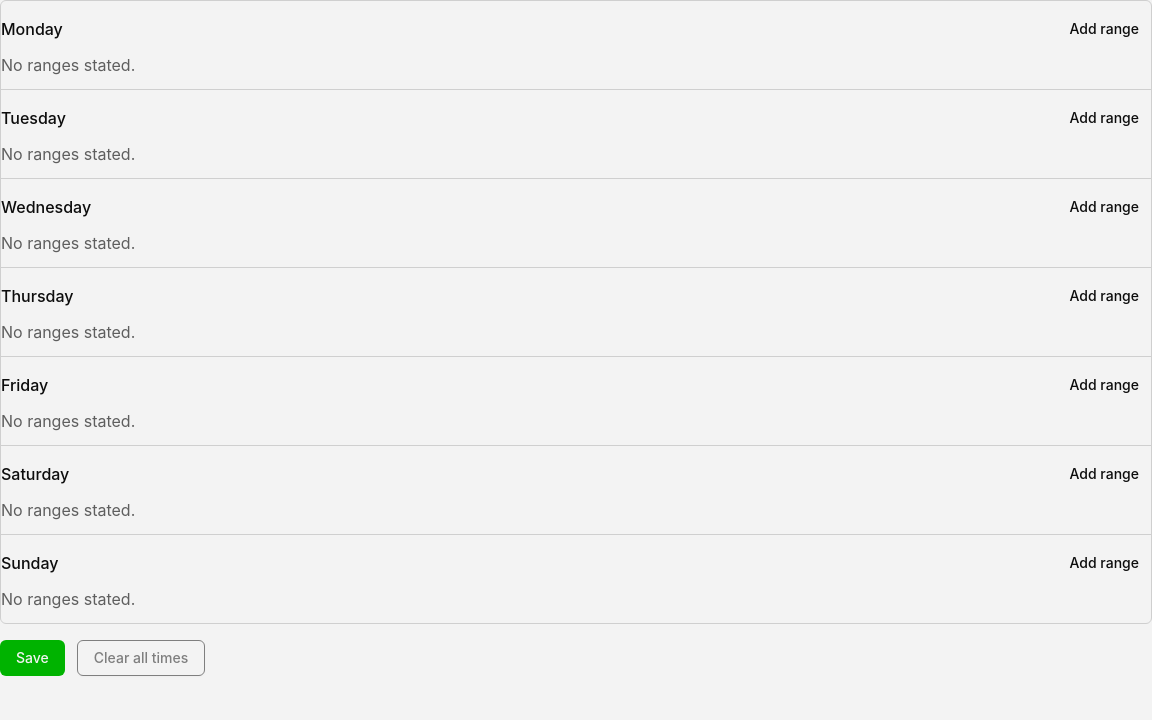
Test: AvailabilityWeekEditor › shows the server refusal under the offending day and changes nothing else
Expected: the text "Monday" is shown, [1,17,63,41]
Click the button "Add range" in the row of "Monday": (1104, 29) [1058,13,1151,45]
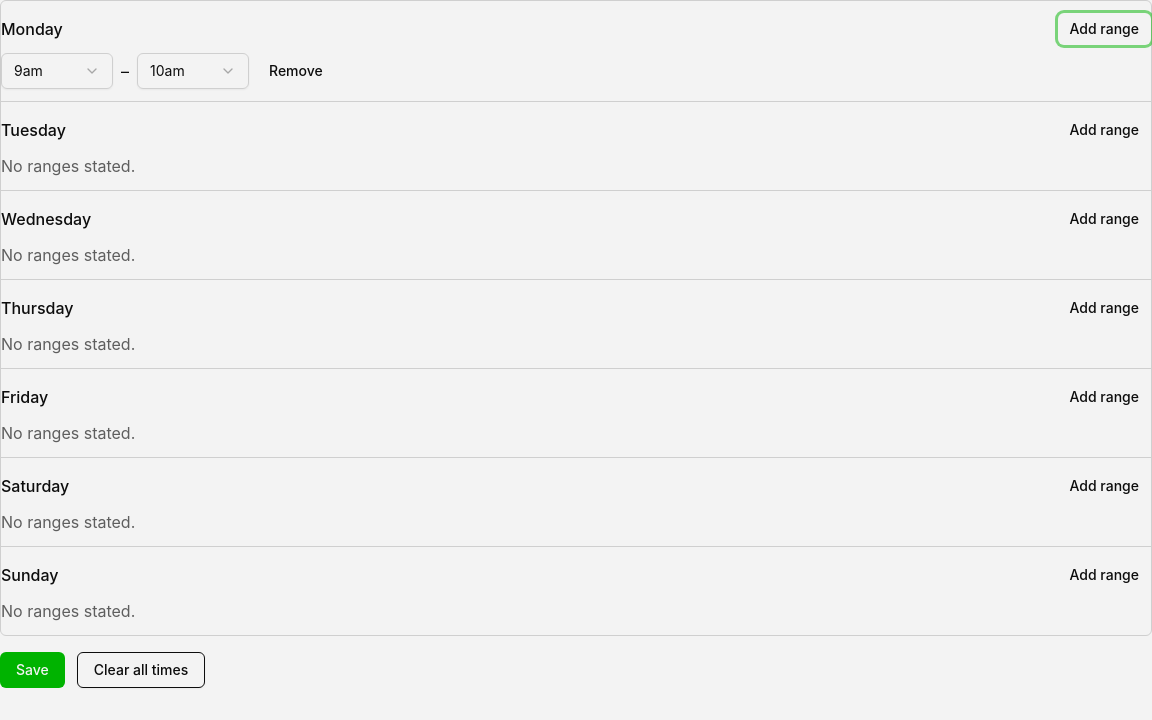
Click the button "Save": (32, 670) [0,652,65,688]
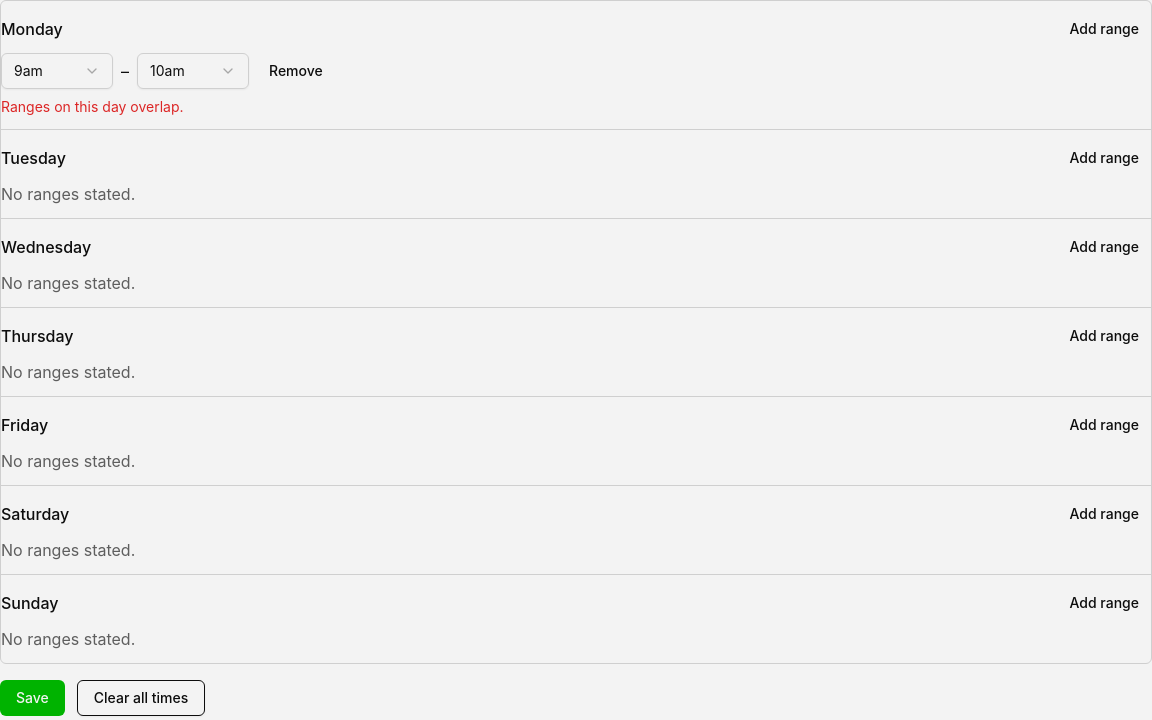
Expected: the text "Ranges on this day overlap." is shown, [1,98,184,115]
